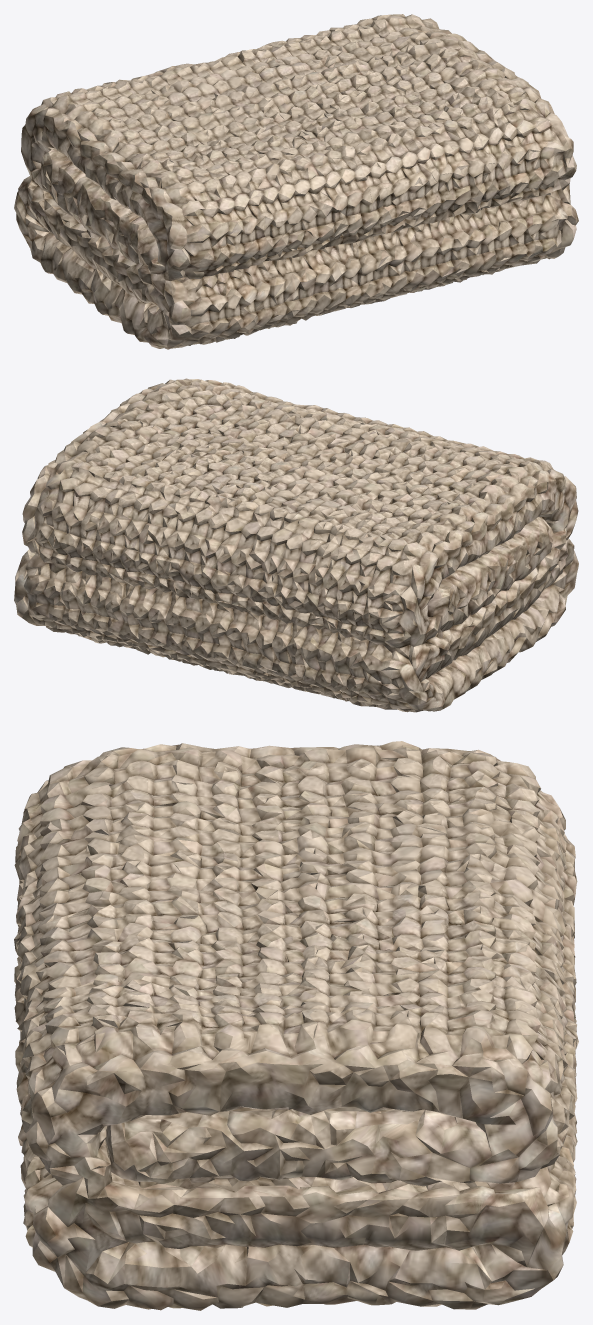
3 views of the same model, one above another, from view 1: azimuth 30°, elevation 25°; view 2: azimuth 150°, elevation 25°; view 3: azimuth 270°, elevation 25° (orthographic). The views are drawn at different scales.
Visible parts, largest first — view 1: Mesh_0; view 2: Mesh_0; view 3: Mesh_0.
Part boxes in pixels (box(x1,y1,x2,y2)): Mesh_0: box(14, 14, 578, 349); Mesh_0: box(14, 378, 578, 712); Mesh_0: box(14, 741, 578, 1310).
Bounding box in the file's own units: 0.4951 × 0.1949 × 0.3589.
1 material, 1 textured.
